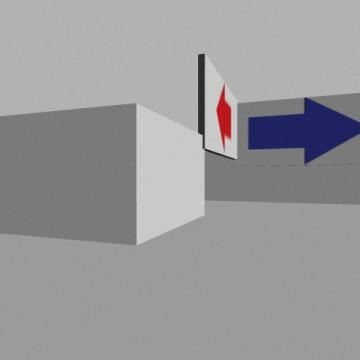blue_right: (249, 98, 359, 163)
red_left: (217, 85, 231, 151)
